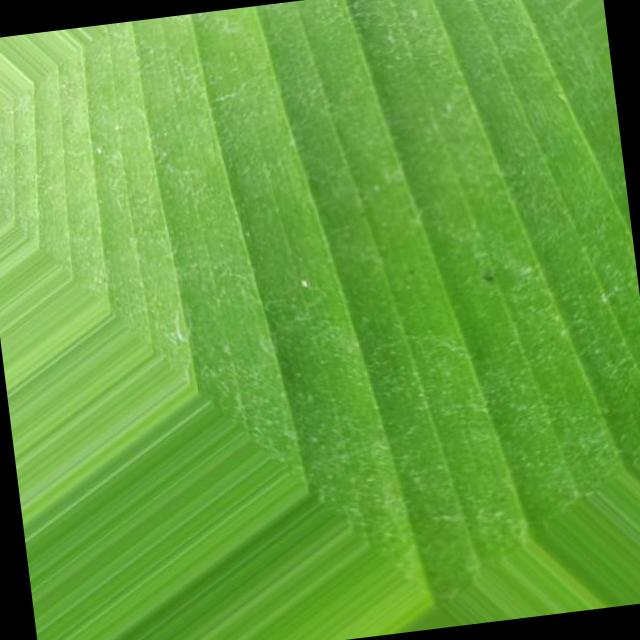Banana_Healthy: (120, 6, 640, 424)
